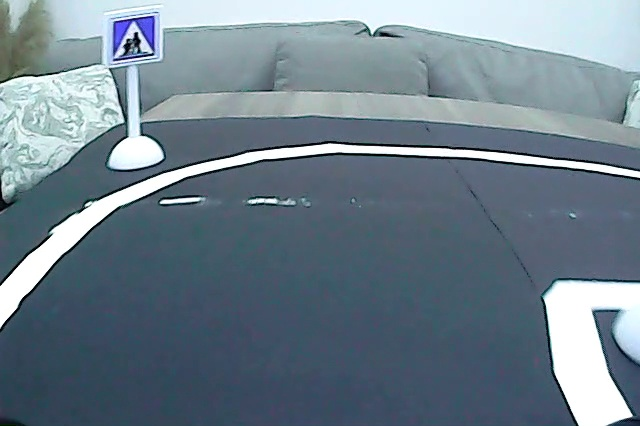school crossing: (109, 12, 159, 66)
